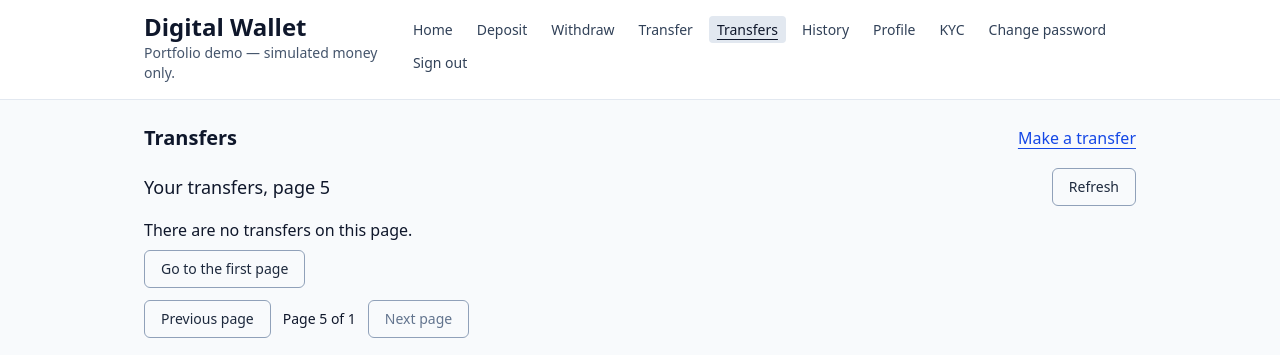
Test: Transfers list › a page past the end offers the first page
Check: the text "There are no transfers on this page." is shown, box [144,219,412,241]
Click the button "Go to the first page" at (225, 269), box [144,250,305,288]
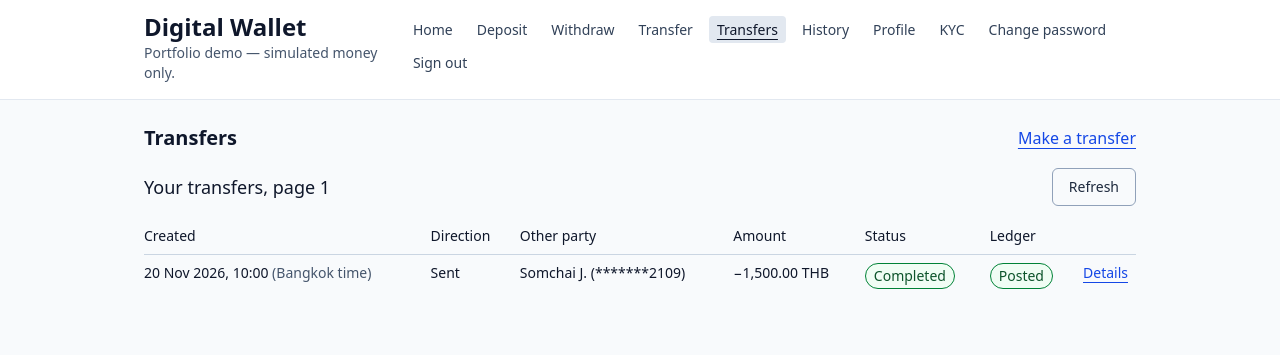
Check: the text "−1,500.00 THB" is shown, box [733,255,865,297]
